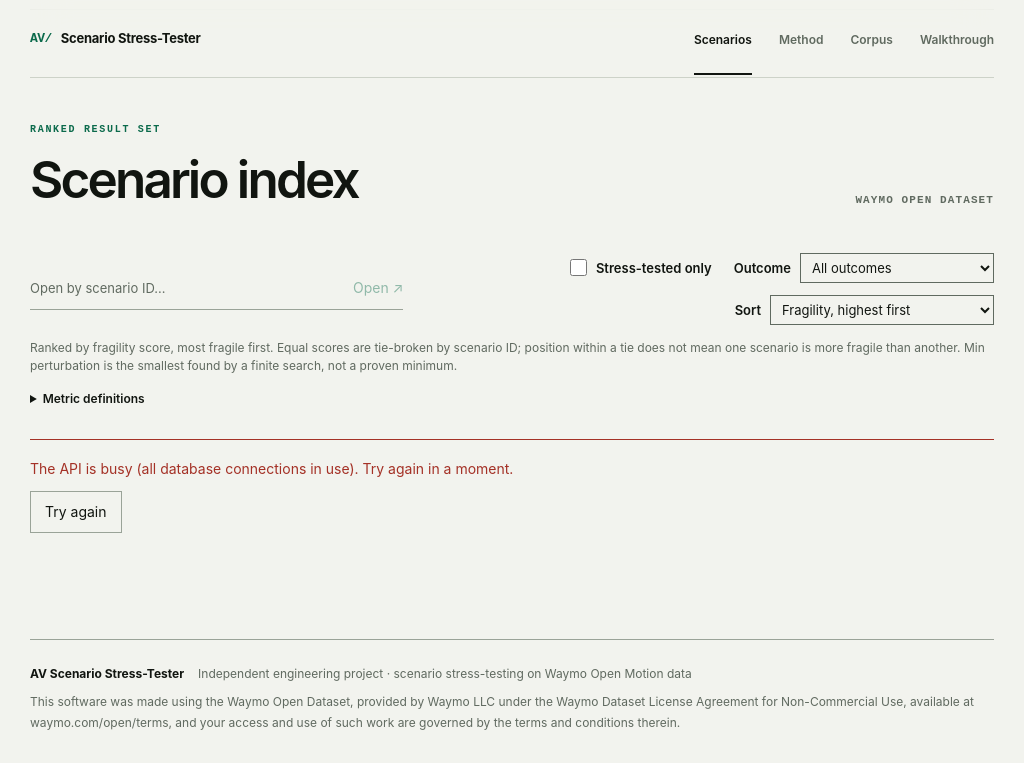
Test: retry after a failed request, without reloading › on the scenario list
(page scrolled)
Expected: the message "The API is busy (all database connections in use). Try again in a moment." is shown, [30, 460, 513, 476]
Click the button "Try again": coordinates (76, 512) [30, 491, 122, 533]
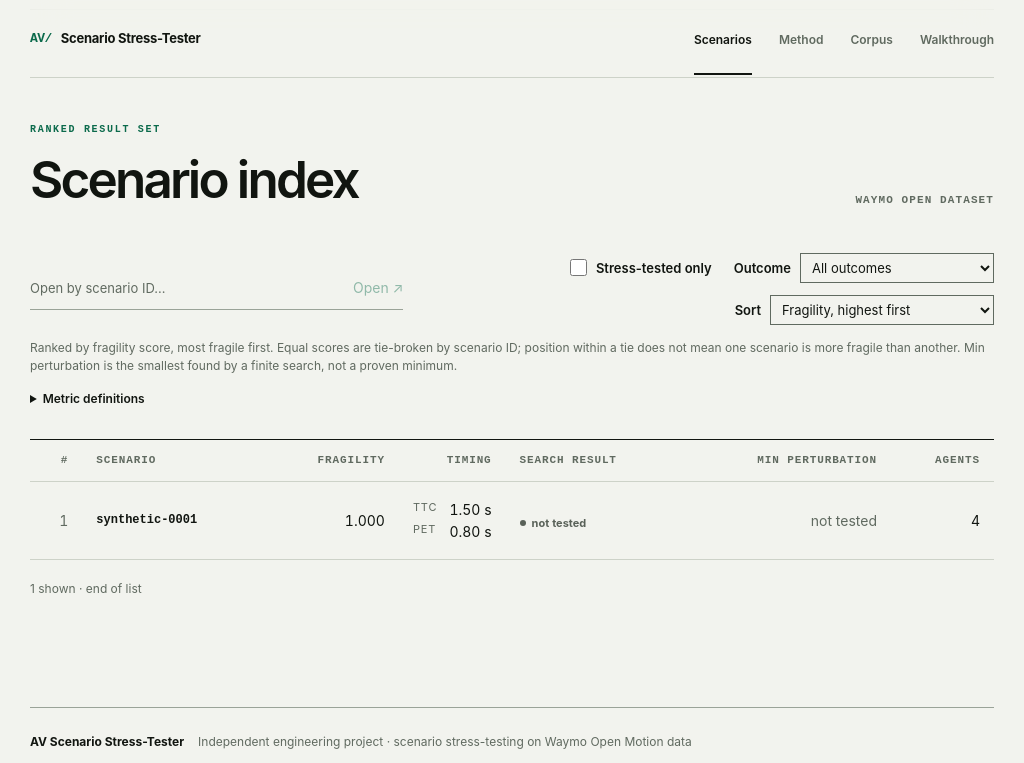
Result: the link "synthetic-0001" is shown at [96, 513, 197, 527]
